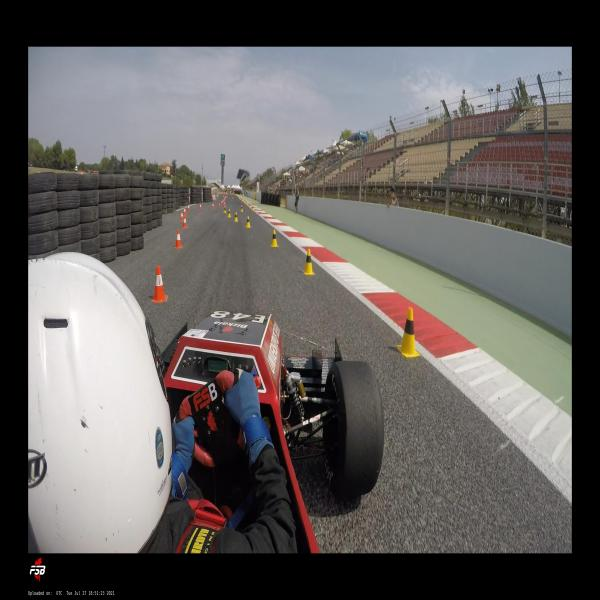orange_cone: (152, 266, 166, 302), (174, 230, 182, 248), (182, 216, 187, 228), (180, 212, 183, 221), (183, 207, 186, 215), (200, 203, 202, 209), (212, 203, 214, 208), (224, 202, 226, 207), (188, 204, 189, 211), (219, 202, 220, 208), (222, 200, 222, 205)
yellow_cone: (396, 308, 420, 358), (303, 249, 314, 275), (271, 230, 278, 246), (246, 215, 251, 228), (234, 212, 238, 222), (240, 205, 244, 212), (228, 209, 231, 217), (224, 207, 226, 213), (252, 206, 254, 211), (249, 203, 250, 208)
